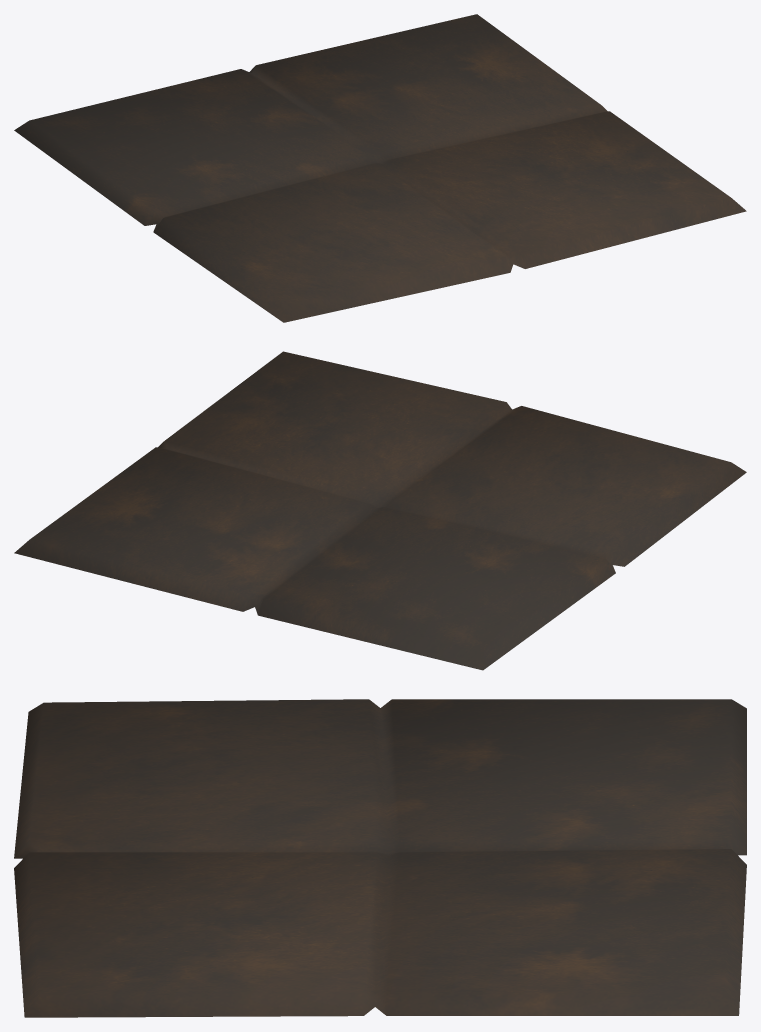
Rendered from NongTian01.fbx.
3 views of the same model, one above another, from view 1: azimuth 30°, elevation 25°; view 2: azimuth 150°, elevation 25°; view 3: azimuth 270°, elevation 25° (orthographic). The views are drawn at different scales.
Parts seen in each view (by area): view 1: nongtian01; view 2: nongtian01; view 3: nongtian01.
Boxes of the visible parts, x1=… form: nongtian01: x1=14, y1=14, x2=746, y2=322; nongtian01: x1=14, y1=351, x2=746, y2=670; nongtian01: x1=14, y1=699, x2=746, y2=1017.
Size of the model in its own units: 200 by 4.75 by 200.
